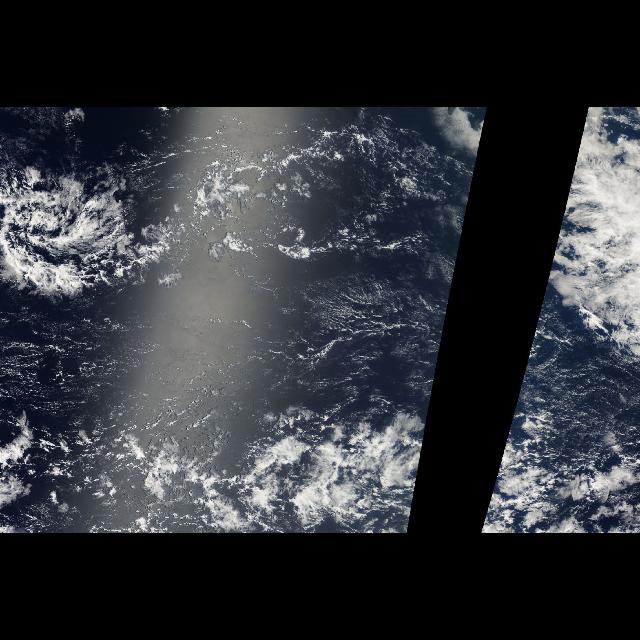Fish: (0, 148, 266, 306)
Sugar: (15, 313, 425, 413)
